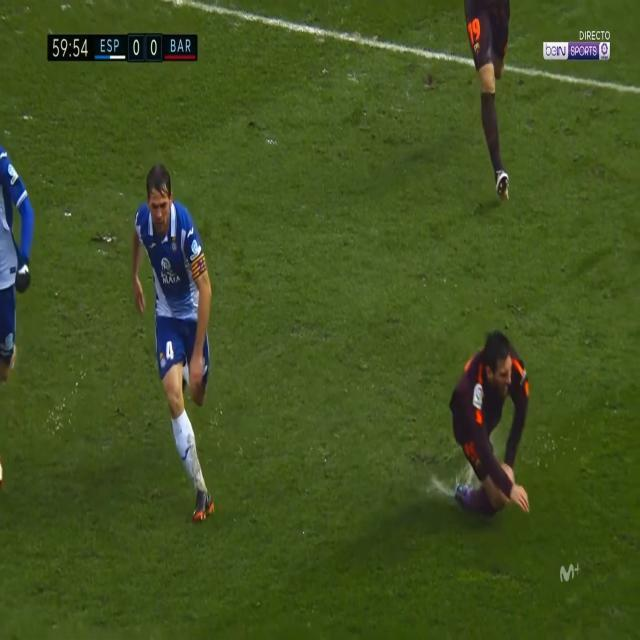player: (128, 140, 227, 547), (435, 304, 549, 550)
